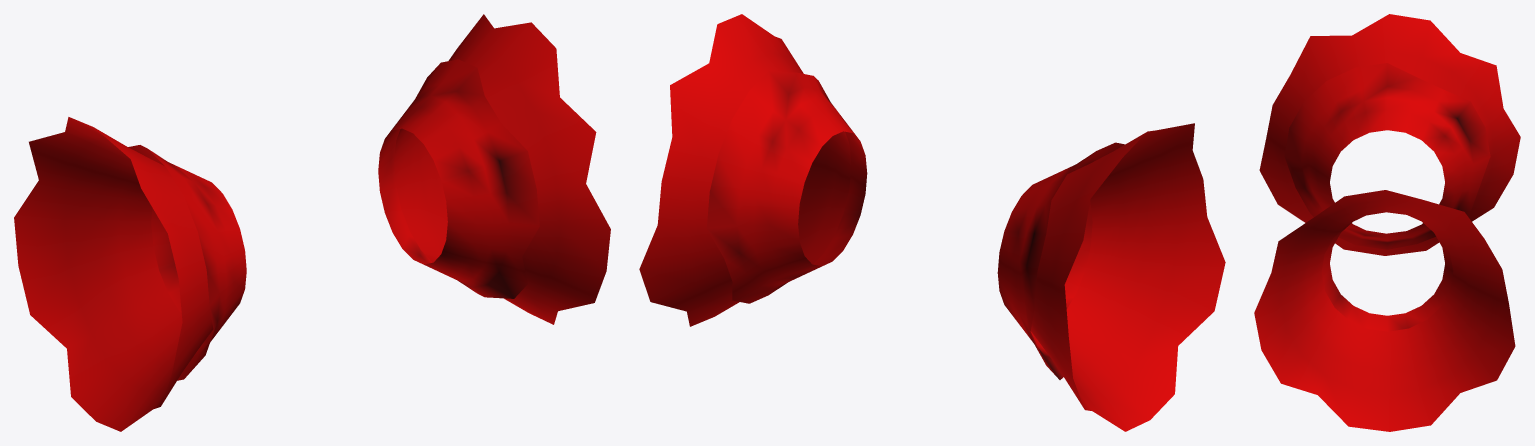
File: ThrusterFXGlow.fbx
3 views of the same model, side by side, from view 1: azimuth 30°, elevation 25°; view 2: azimuth 150°, elevation 25°; view 3: azimuth 270°, elevation 25° (orthographic). The views are drawn at different scales.
Visible parts, largest first — view 1: pCone5; view 2: pCone5; view 3: pCone5.
Boxes of the visible parts, x1=… form: pCone5: x1=14, y1=14, x2=610, y2=431; pCone5: x1=639, y1=14, x2=1225, y2=431; pCone5: x1=1254, y1=14, x2=1520, y2=431.
Bounding box in the file's own units: 22.54 × 14.47 × 14.44.
